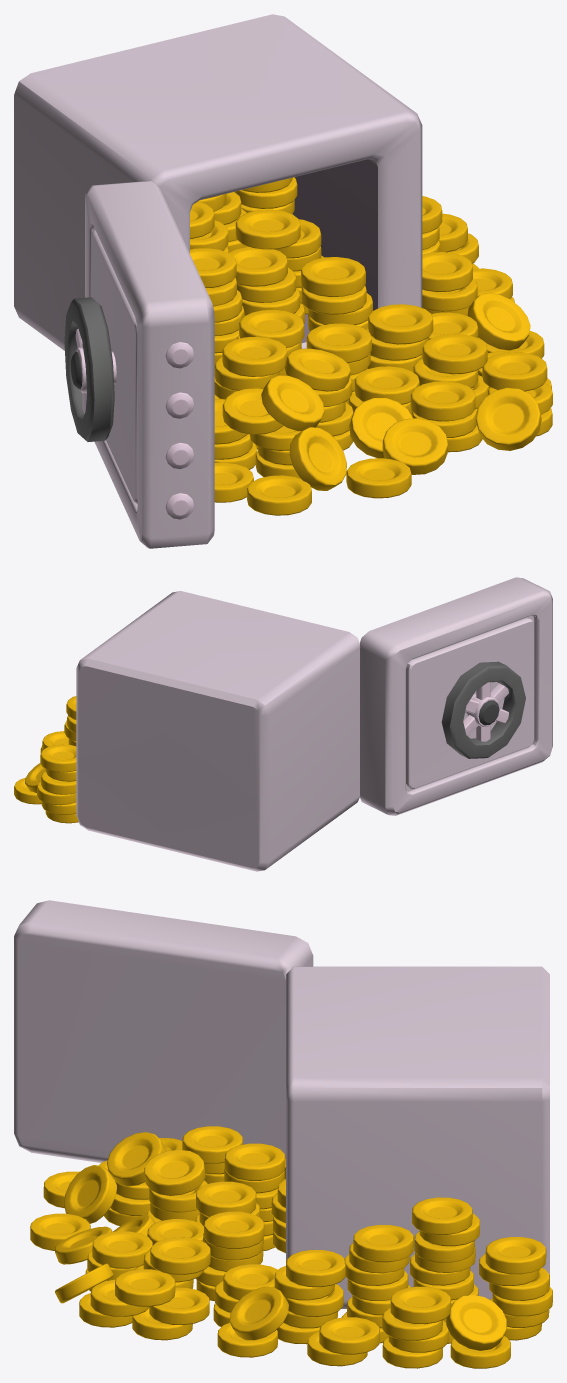
The picture shows the model from 3 angles, top to bottom: view 1: azimuth 30°, elevation 25°; view 2: azimuth 150°, elevation 25°; view 3: azimuth 270°, elevation 25°; orthographic projection. The views are drawn at different scales.
Visible parts, largest first — view 1: model_0.120; view 2: model_0.120; view 3: model_0.120.
Boxes of the visible parts, box(x1,y1,x2,y2) form: model_0.120: box(14, 14, 552, 548); model_0.120: box(14, 577, 552, 871); model_0.120: box(14, 900, 552, 1368).
Size of the model in its own units: 7.71 by 3.38 by 7.13.
